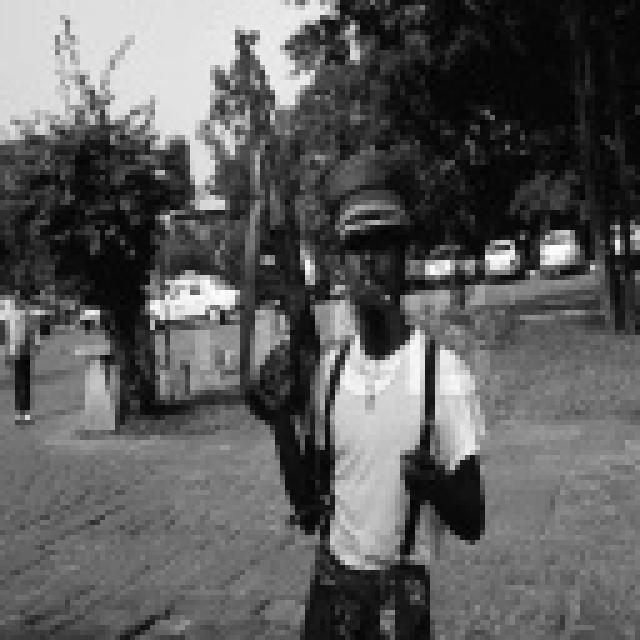Rifle: (163, 97, 397, 556)
